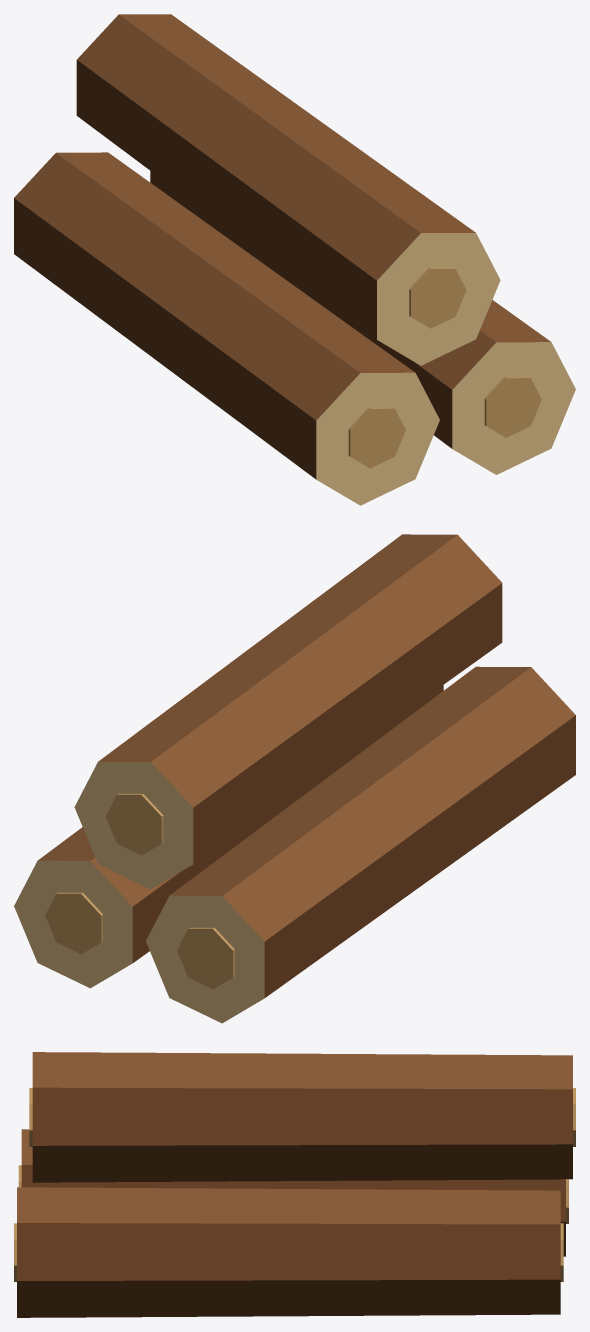
File: log_stack.glb
3 views of the same model, one above another, from view 1: azimuth 30°, elevation 25°; view 2: azimuth 150°, elevation 25°; view 3: azimuth 270°, elevation 25° (orthographic). The views are drawn at different scales.
Visible parts, largest first — view 1: log_stack; view 2: log_stack; view 3: log_stack.
Boxes of the visible parts, left/top/right/bottom form: log_stack: left=14, top=14, right=575, bottom=505; log_stack: left=14, top=534, right=575, bottom=1023; log_stack: left=14, top=1052, right=575, bottom=1317.
Bounding box in the file's own units: 0.3358 × 0.3145 × 0.7132.
1 material, 1 textured.
